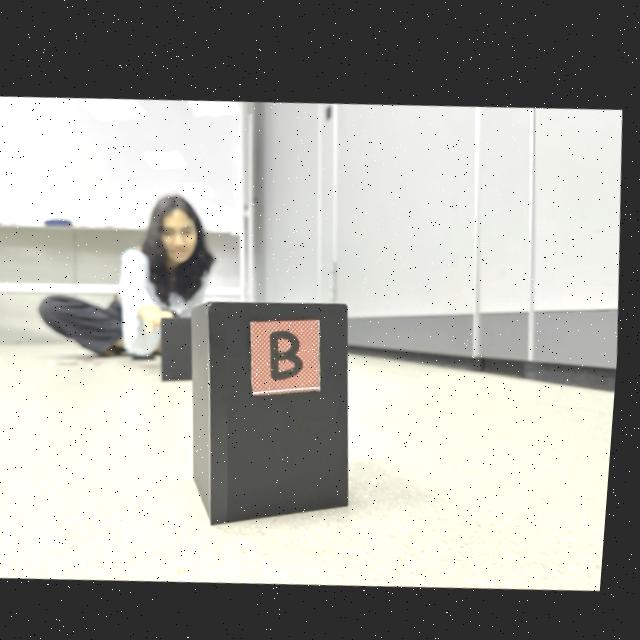B: (275, 326, 307, 374)
